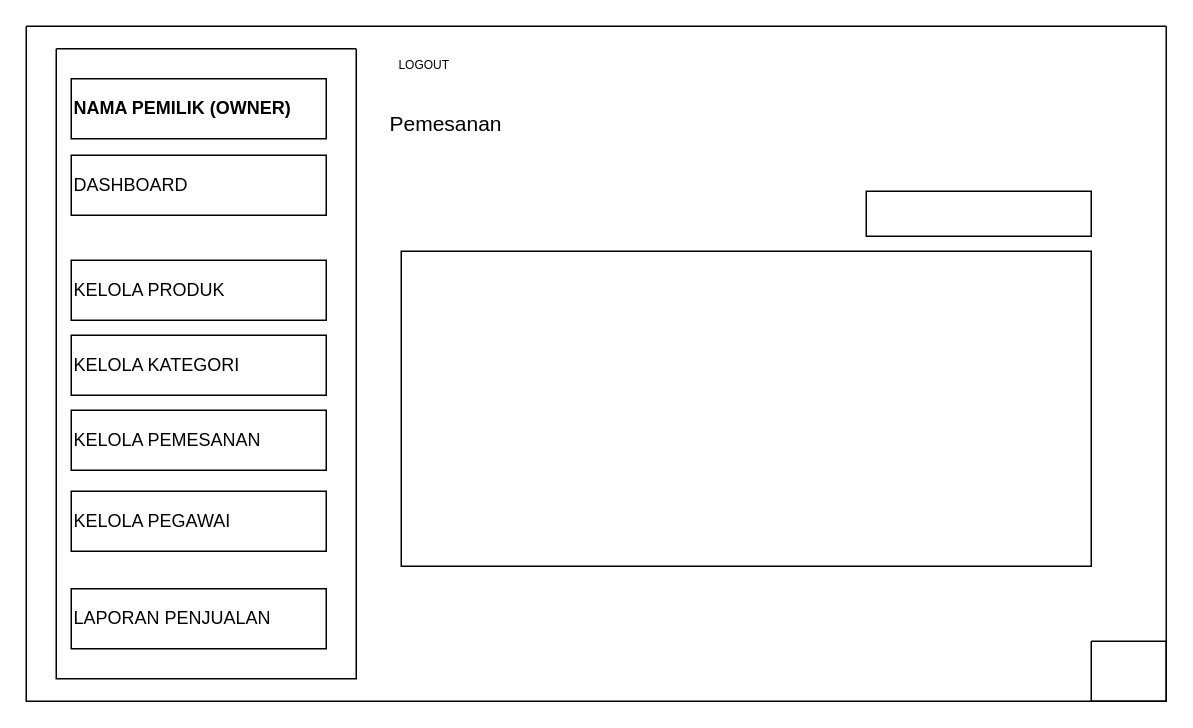
Image size: 1193x728. Some labels were removed from this diagram. The box of each missing label's shape, as (x1, y1, x2, y2) in pixels:
KOLOM PENCARIAN: (865, 190, 1091, 236)
TABEL DAFTAR PEMESANAN: (400, 250, 1091, 566)
